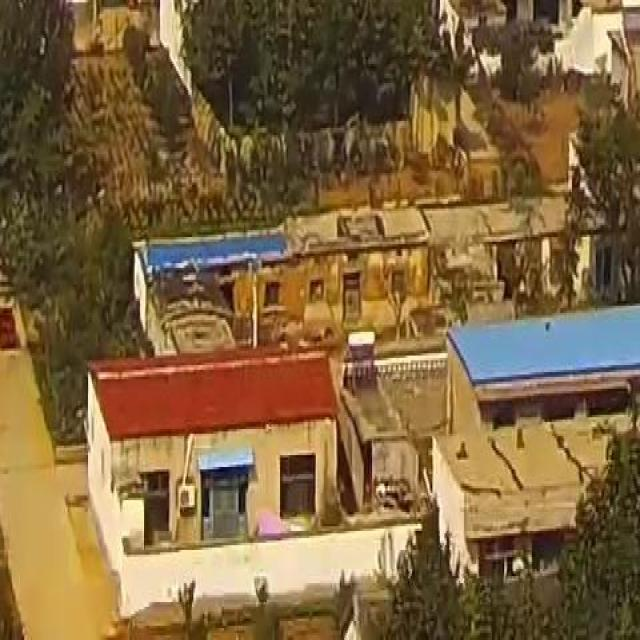other: (55, 344, 347, 432)
